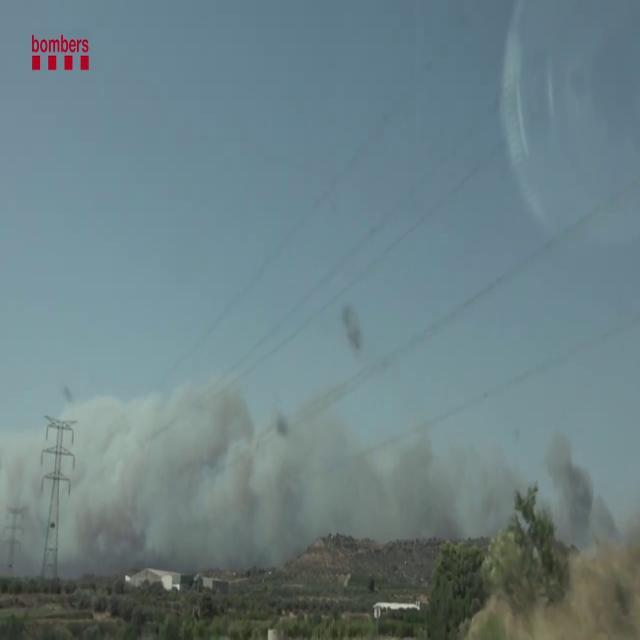Smoke: (0, 364, 324, 584), (526, 422, 640, 636)
